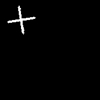single_crochet: (8, 6, 34, 32)
